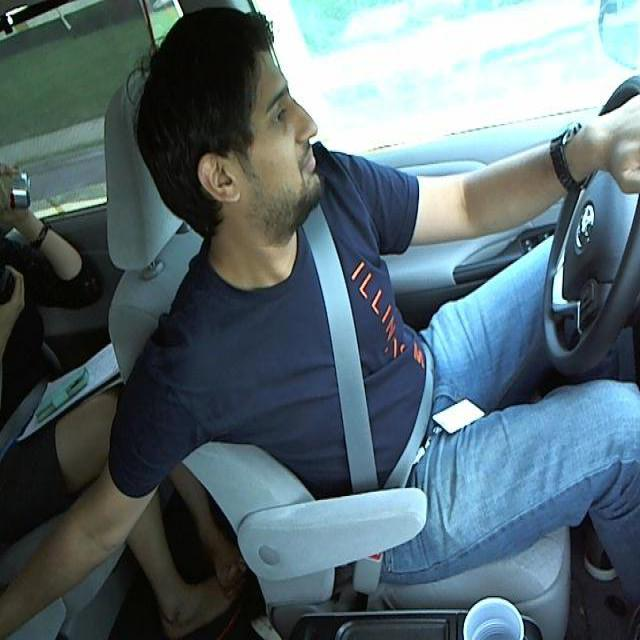seatbelt: (315, 255, 415, 493)
